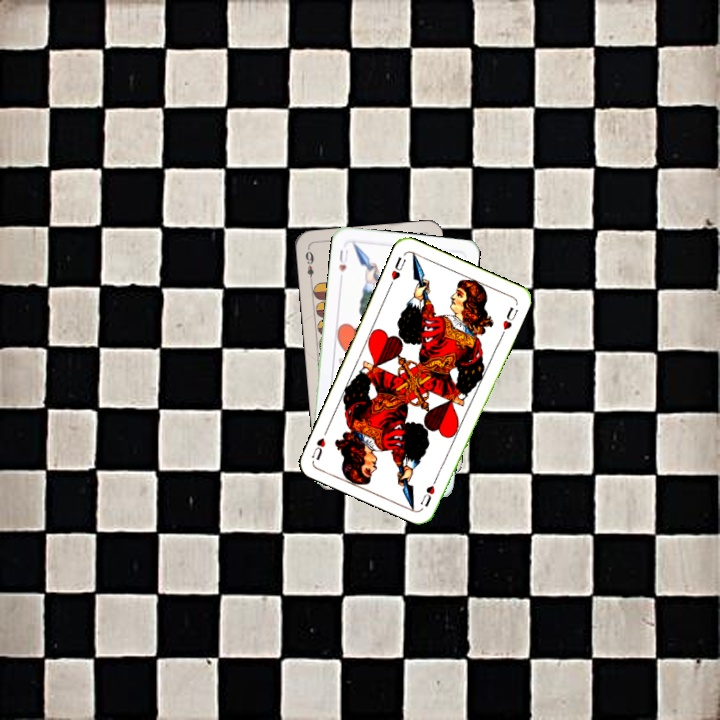E9: (301, 245, 316, 286)
HU: (416, 471, 441, 509), (385, 253, 408, 289), (335, 246, 351, 274)
